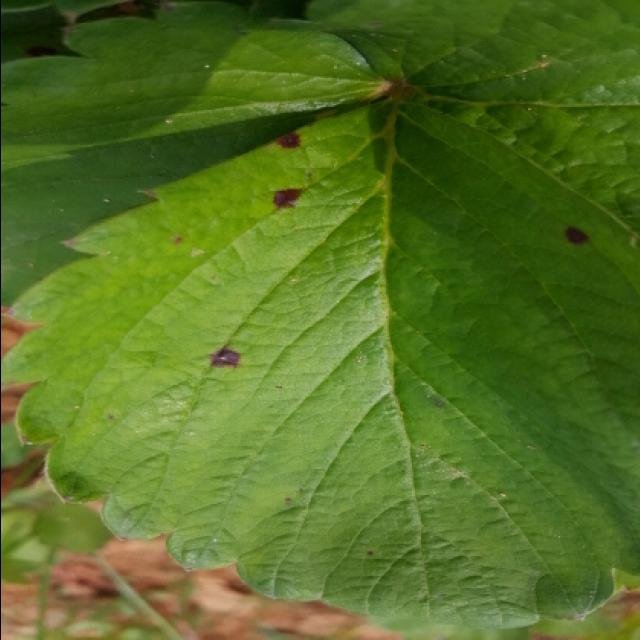Leaf Spot: (2, 95, 640, 628)
